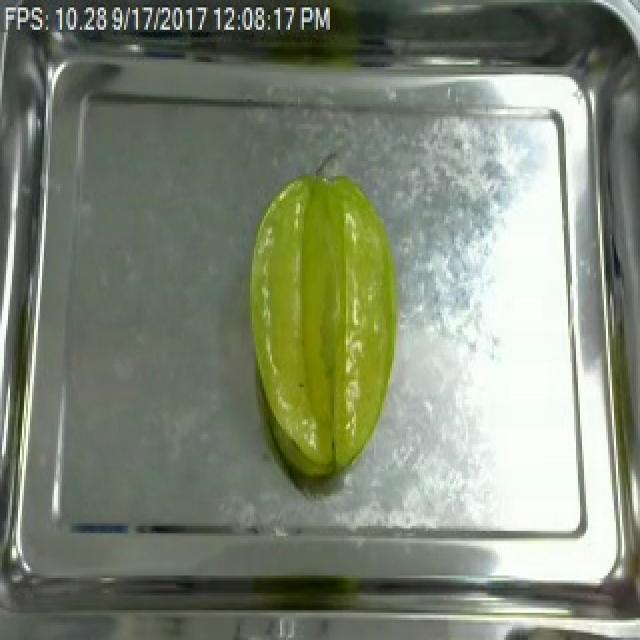fruit: (232, 164, 408, 491)
